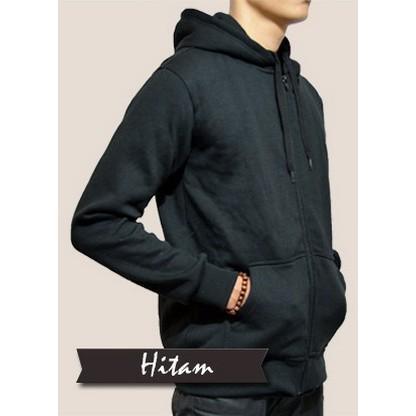sweater: (73, 7, 349, 392)
